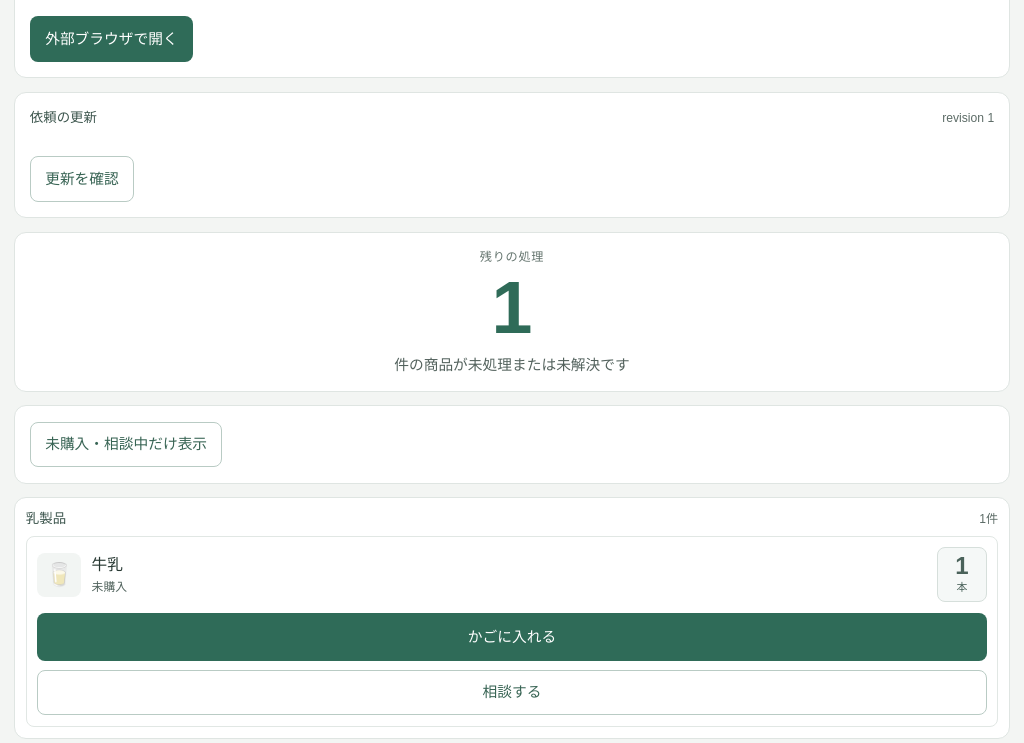
Test: ShoppingListPage live request synchronization › shows additions and changes while preserving in-cart progress
(page scrolled)
Click the button "かごに入れる" at (512, 637), box x1=37 y1=613 x2=987 y2=661
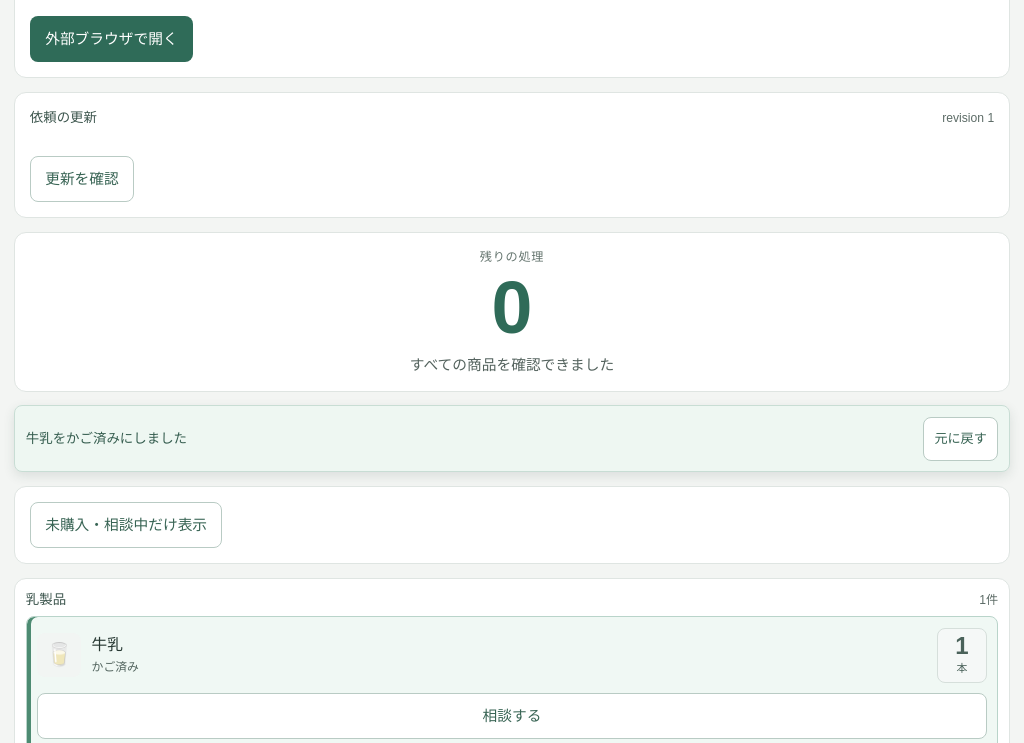
Click the button "更新を確認" at (82, 179), box x1=30 y1=156 x2=134 y2=202
(page scrolled)
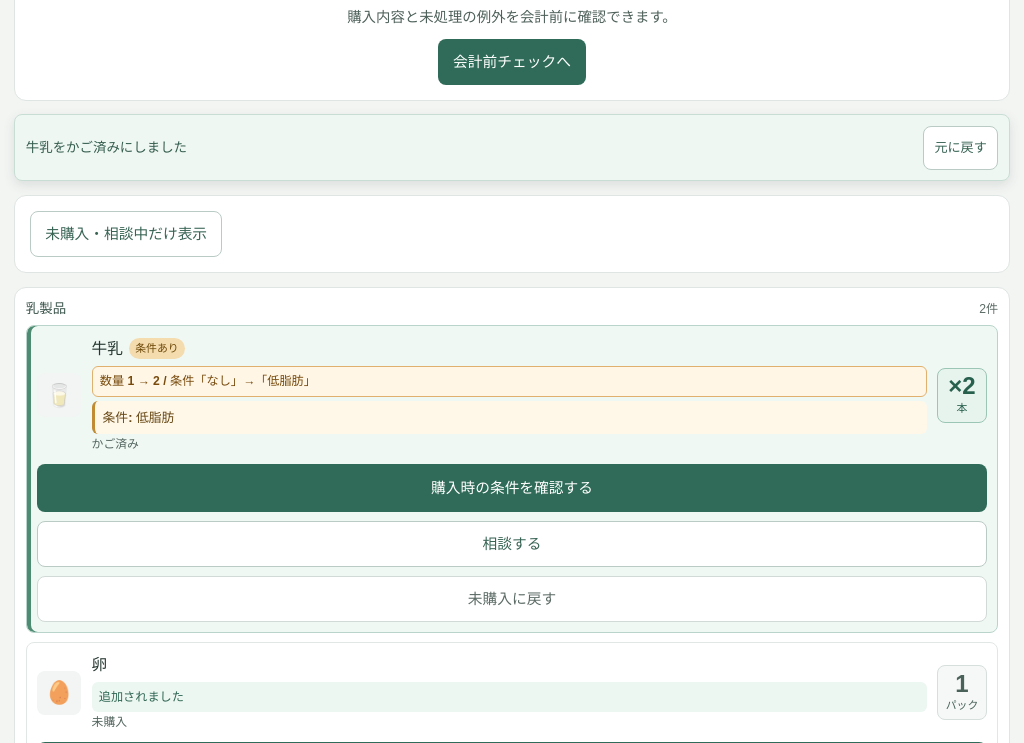
Now the text "数量 1 → 2" is shown, box x1=100 y1=374 x2=316 y2=388
Now the text "条件「なし」→「低脂肪」" is shown, box x1=100 y1=374 x2=316 y2=388
Now the text "追加されました" is shown, box x1=92 y1=682 x2=927 y2=712
